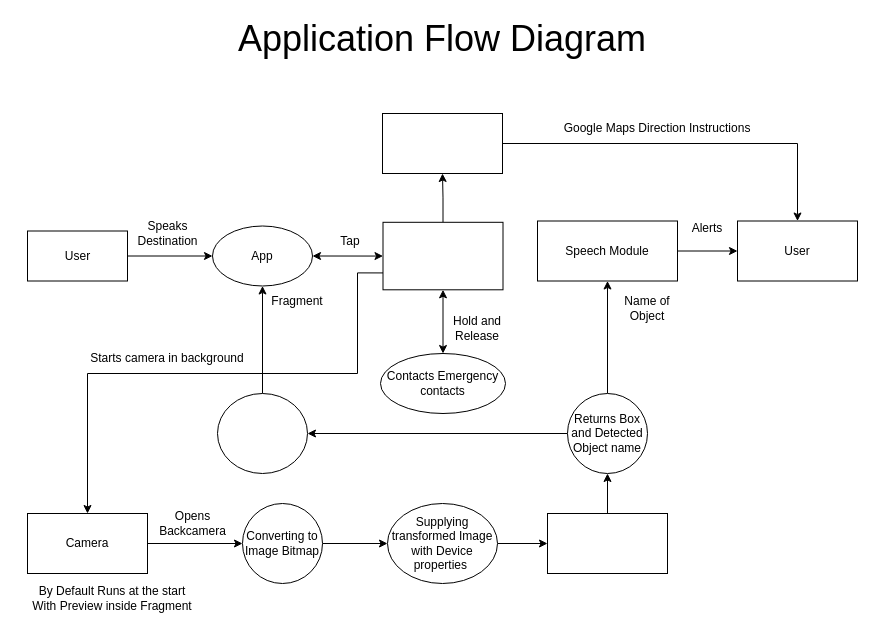
This 884x631 diagram has some shape labels left out. Here are the shapes that lost their labels. From the top down, the centre of each, then its label:
At pixel 442 143: "Google Maps Navigation Intent".
At pixel 442 255: "Floating Button (Foreground Service)".
At pixel 262 433: "Draws the box on the camera fragment".
At pixel 607 543: "Object Detection Model".
